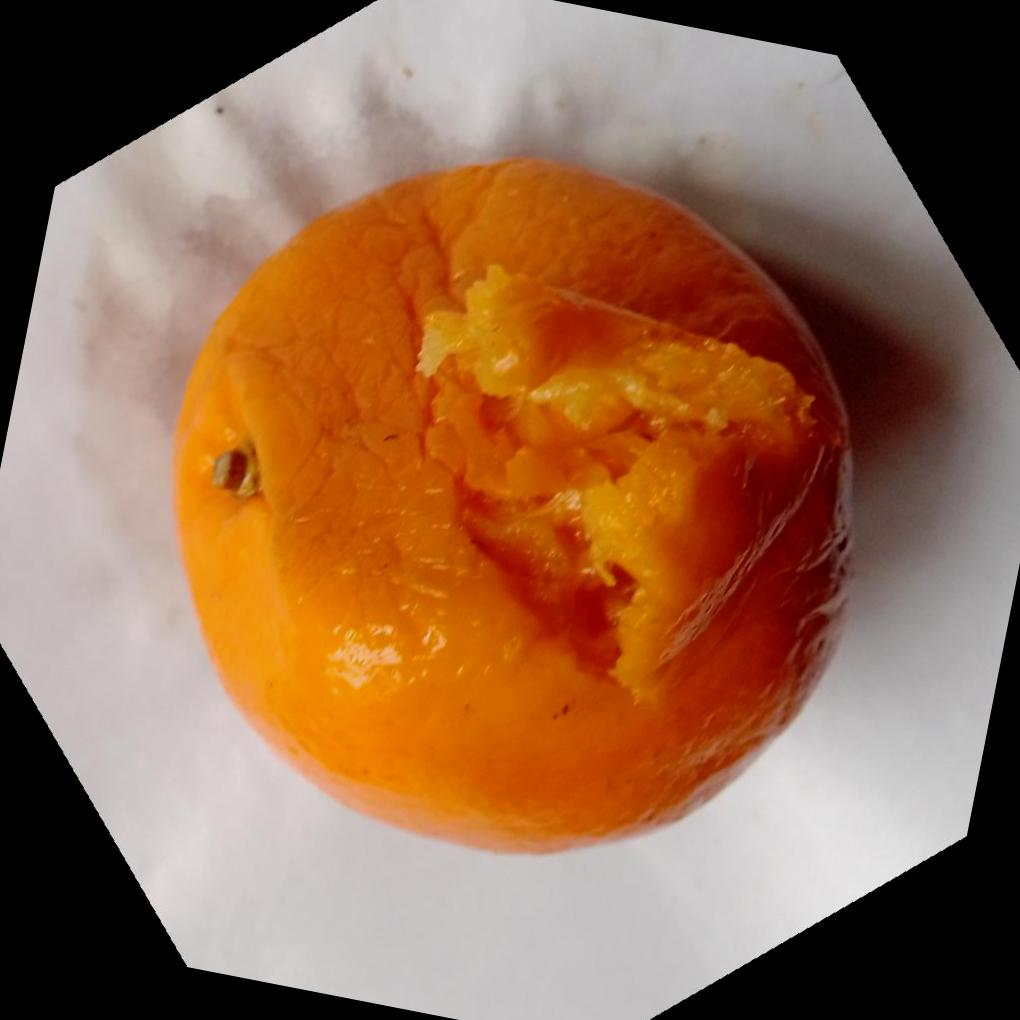FreshOrange: (169, 148, 858, 855)
